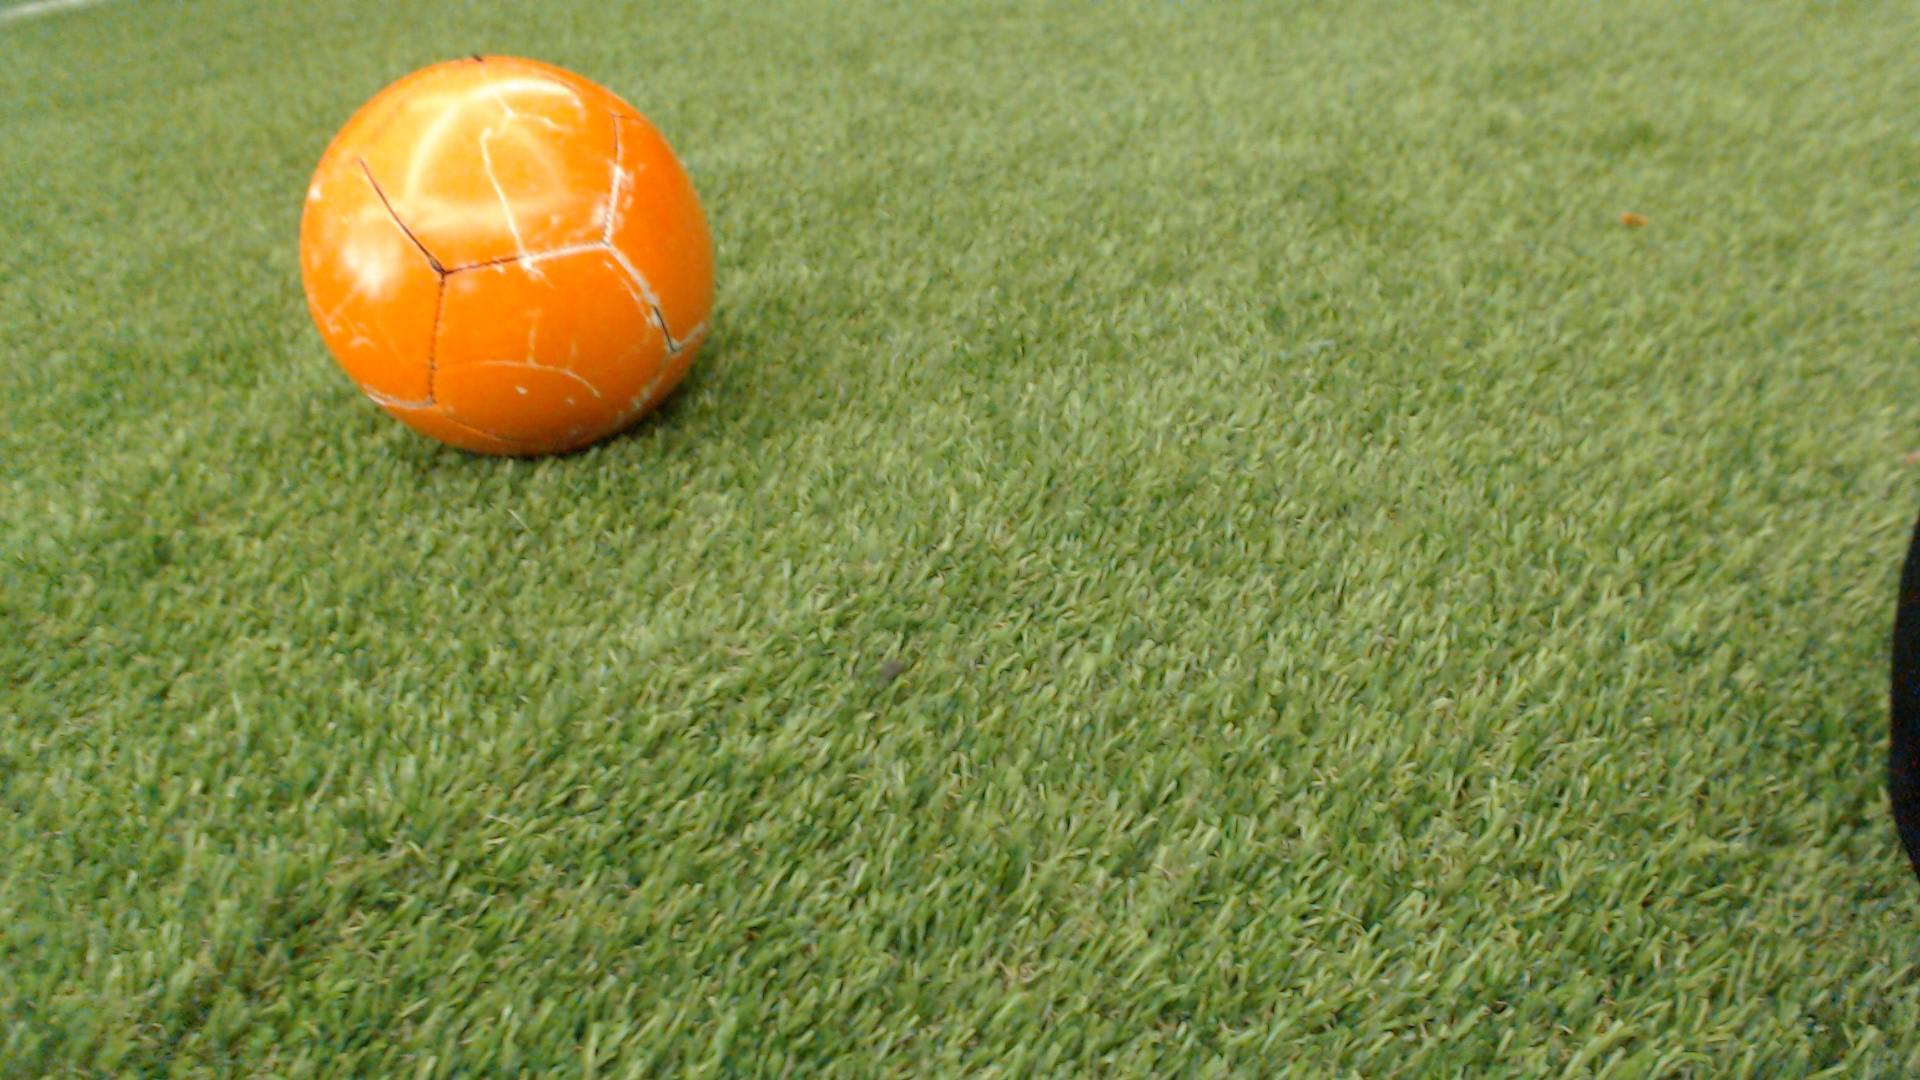bola: (274, 39, 758, 457)
